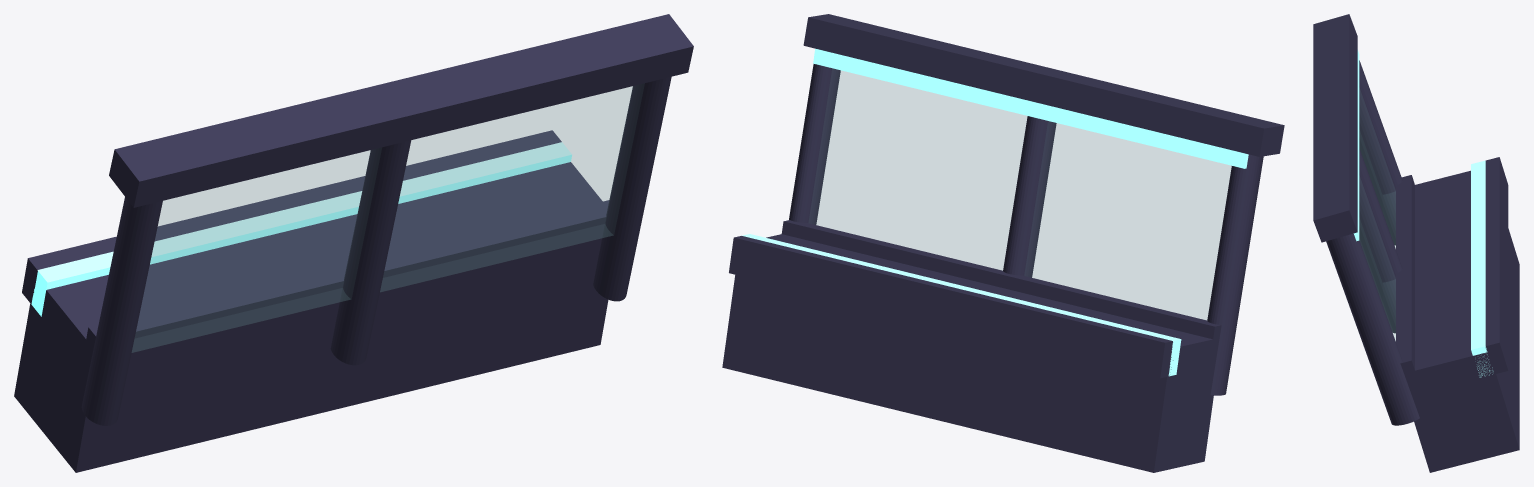
The model's file is Railing_Short.fbx.
The picture shows the model from 3 angles, left to right: view 1: azimuth 30°, elevation 25°; view 2: azimuth 150°, elevation 25°; view 3: azimuth 270°, elevation 25°; orthographic projection. The views are drawn at different scales.
Parts seen in each view (by area): view 1: Cube.027, Cube.031, Cube.032, Cube.029, Cube.028, Cylinder.012, Cylinder.003, Cylinder.002, Cube.030; view 2: Cube.031, Cube.027, Cube.032, Cube.030, Cube.029, Cube.033, Cylinder.012, Cylinder.003, Cylinder.002, Cube.028; view 3: Cube.027, Cube.032, Cylinder.002, Cube.030, Cylinder.003, Cube.029, Cylinder.012, Cube.028, Cube.031, Cube.033.
Part boxes in pixels (x1,y1,x2,y2): Cube.027: [14, 162, 608, 472]; Cube.031: [132, 86, 633, 352]; Cube.032: [109, 14, 693, 207]; Cube.029: [82, 200, 609, 368]; Cube.028: [31, 142, 571, 316]; Cylinder.012: [81, 197, 162, 425]; Cylinder.003: [330, 140, 411, 365]; Cylinder.002: [593, 76, 671, 301]; Cube.030: [22, 130, 561, 304]; Cube.031: [816, 70, 1231, 319]; Cube.027: [722, 234, 1215, 472]; Cube.032: [803, 14, 1284, 156]; Cube.030: [729, 236, 1172, 378]; Cube.029: [781, 220, 1221, 361]; Cube.033: [813, 48, 1248, 168]; Cylinder.012: [1207, 154, 1263, 395]; Cylinder.003: [1003, 116, 1056, 277]; Cylinder.002: [789, 64, 840, 224]; Cube.028: [742, 234, 1181, 376]; Cube.027: [1404, 170, 1519, 472]; Cube.032: [1313, 14, 1357, 242]; Cylinder.002: [1326, 233, 1419, 425]; Cube.030: [1485, 157, 1508, 373]; Cylinder.003: [1359, 148, 1402, 333]; Cube.029: [1396, 175, 1414, 373]; Cylinder.012: [1359, 60, 1402, 245]; Cube.028: [1471, 160, 1493, 377]; Cube.031: [1359, 130, 1395, 340]; Cube.033: [1353, 49, 1359, 241].
Bounding box in the file's own units: 345 × 219 × 153.
